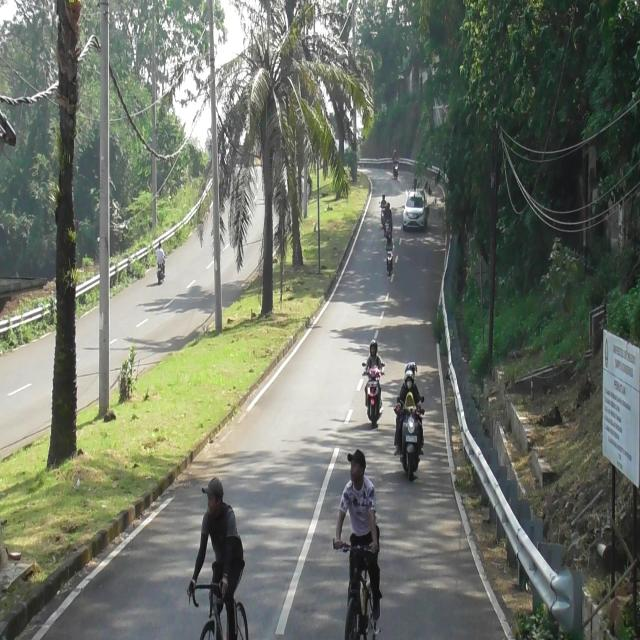motorcycle: (402, 403, 421, 481), (364, 366, 381, 427), (386, 250, 394, 276), (157, 262, 165, 282), (393, 158, 399, 180), (385, 220, 392, 237), (381, 204, 385, 227)
person: (396, 361, 424, 451), (399, 373, 422, 413), (364, 339, 385, 376), (405, 392, 416, 414), (158, 242, 165, 270), (386, 232, 394, 252), (385, 203, 393, 223), (379, 193, 387, 206), (393, 150, 398, 162)
rider_region: (394, 358, 428, 489), (362, 334, 383, 424), (155, 240, 166, 285), (386, 233, 394, 275), (380, 194, 386, 228), (393, 149, 399, 178)
